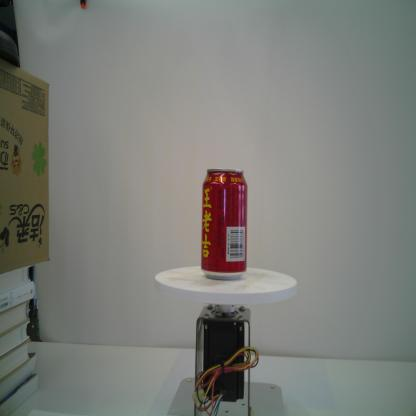Drink: (200, 165, 250, 283)
